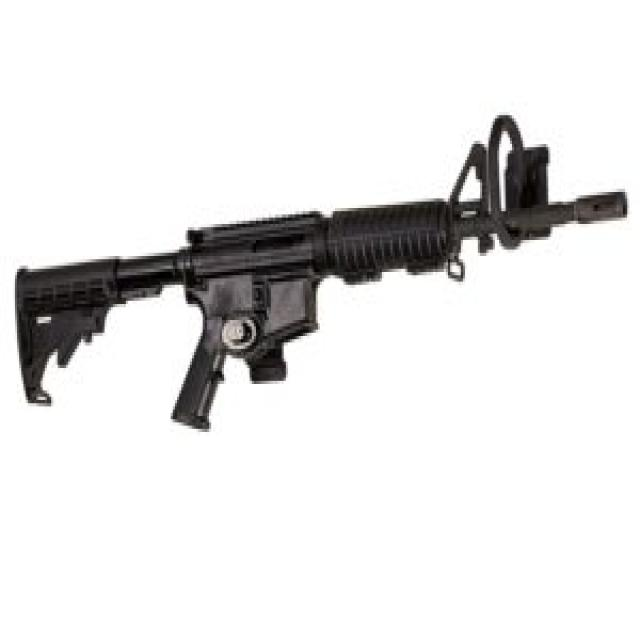Rifle: (13, 141, 631, 432)
